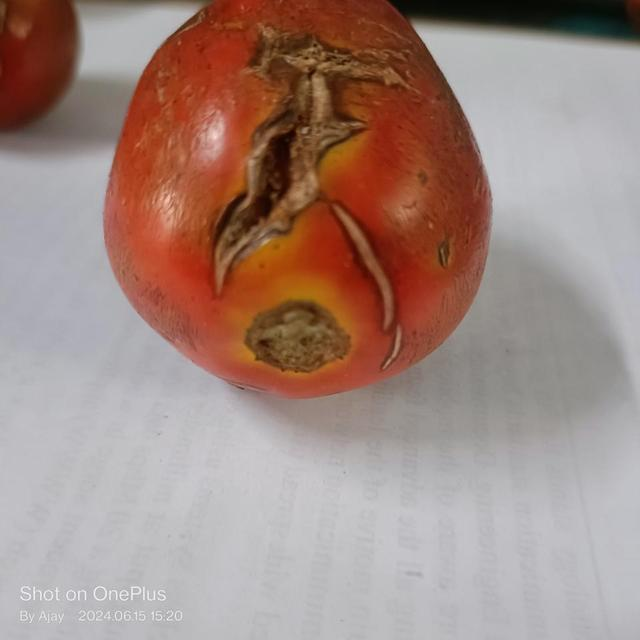Cracking Fruit: (132, 132, 254, 208)
